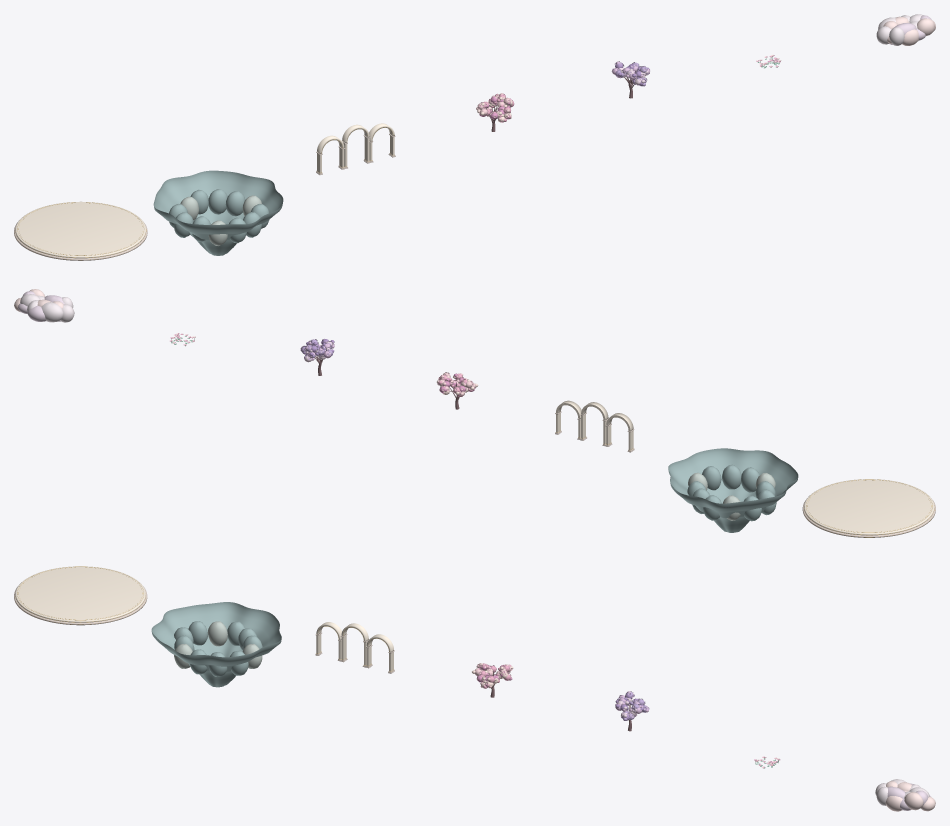
File: pearl-atelier.glb
3 renders of one model, top to bottom at view 1: azimuth 30°, elevation 25°; view 2: azimuth 150°, elevation 25°; view 3: azimuth 330°, elevation 25°, orthographic.
Visible parts, largest first — view 1: ML_Island | Stone | cool celadon, ML_Terrace | Porcelain | warm ivory, ML_Arcade | Porcelain | warm ivory, ML_Island | Stone | pale mineral, ML_Cloudbank | Cloud | 2, ML_Cloudbank | Cloud | 0; view 2: ML_Island | Stone | cool celadon, ML_Terrace | Porcelain | warm ivory, ML_Arcade | Porcelain | warm ivory, ML_Cloudbank | Cloud | 2, ML_Island | Stone | pale mineral; view 3: ML_Island | Stone | cool celadon, ML_Terrace | Porcelain | warm ivory, ML_Arcade | Porcelain | warm ivory, ML_Island | Stone | pale mineral, ML_Cloudbank | Cloud | 0.
Part boxes in pixels (box(x1,y1,x2,y2)): ML_Island | Stone | cool celadon: box(153, 170, 283, 255); ML_Terrace | Porcelain | warm ivory: box(15, 201, 145, 258); ML_Arcade | Porcelain | warm ivory: box(317, 123, 394, 172); ML_Island | Stone | pale mineral: box(180, 195, 261, 245); ML_Cloudbank | Cloud | 2: box(876, 14, 922, 45); ML_Cloudbank | Cloud | 0: box(883, 16, 935, 45); ML_Island | Stone | cool celadon: box(668, 448, 798, 532); ML_Terrace | Porcelain | warm ivory: box(804, 479, 934, 535); ML_Arcade | Porcelain | warm ivory: box(556, 400, 633, 450); ML_Cloudbank | Cloud | 2: box(20, 294, 74, 322); ML_Island | Stone | pale mineral: box(688, 472, 775, 520); ML_Island | Stone | cool celadon: box(151, 602, 281, 687); ML_Terrace | Porcelain | warm ivory: box(15, 566, 145, 622); ML_Arcade | Porcelain | warm ivory: box(316, 622, 393, 671); ML_Island | Stone | pale mineral: box(174, 621, 262, 668); ML_Cloudbank | Cloud | 0: box(885, 781, 935, 811).
Size of the model in its own units: 199 by 20.06 by 25.34.
